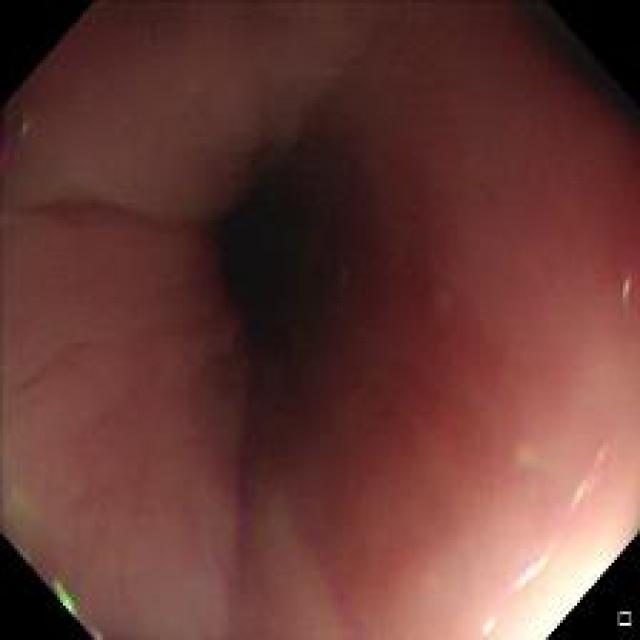color misalignment: (466, 435, 606, 611), (28, 561, 94, 630), (1, 104, 32, 176), (2, 475, 40, 531), (618, 259, 634, 321)
contrast: (199, 130, 386, 415), (502, 555, 602, 631)
specularity: (512, 546, 549, 590), (480, 615, 496, 636)
